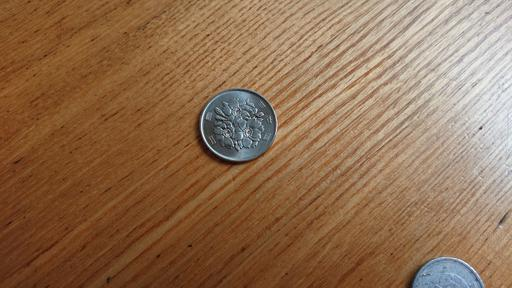100yen: (200, 90, 277, 162)
1yen: (408, 256, 485, 287)
